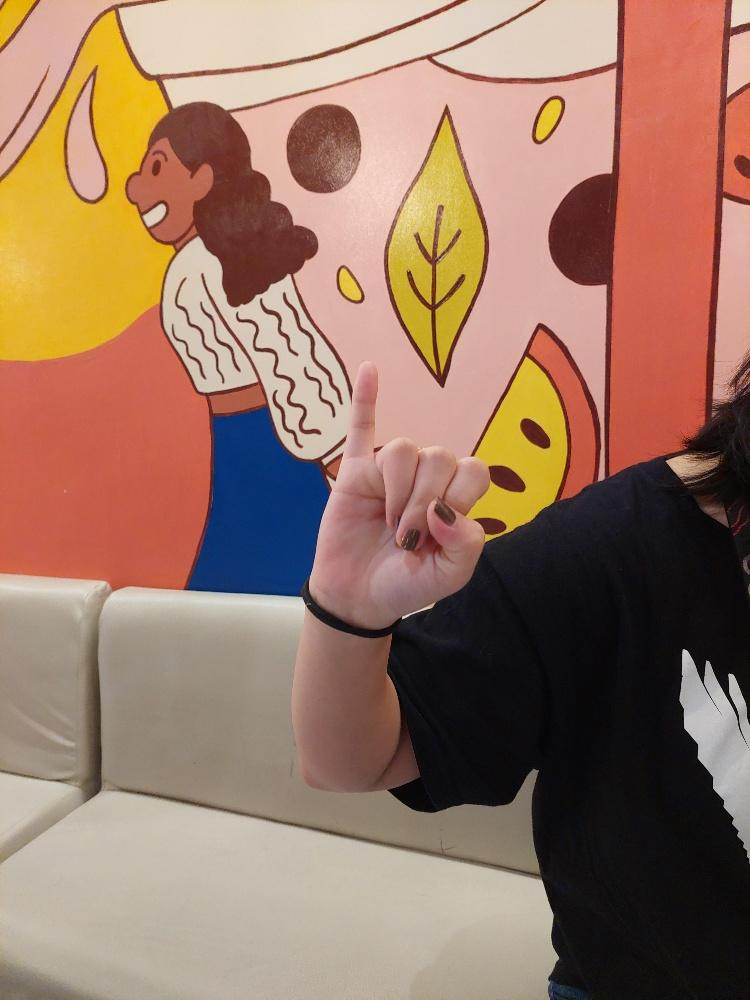i: (311, 357, 492, 623)
